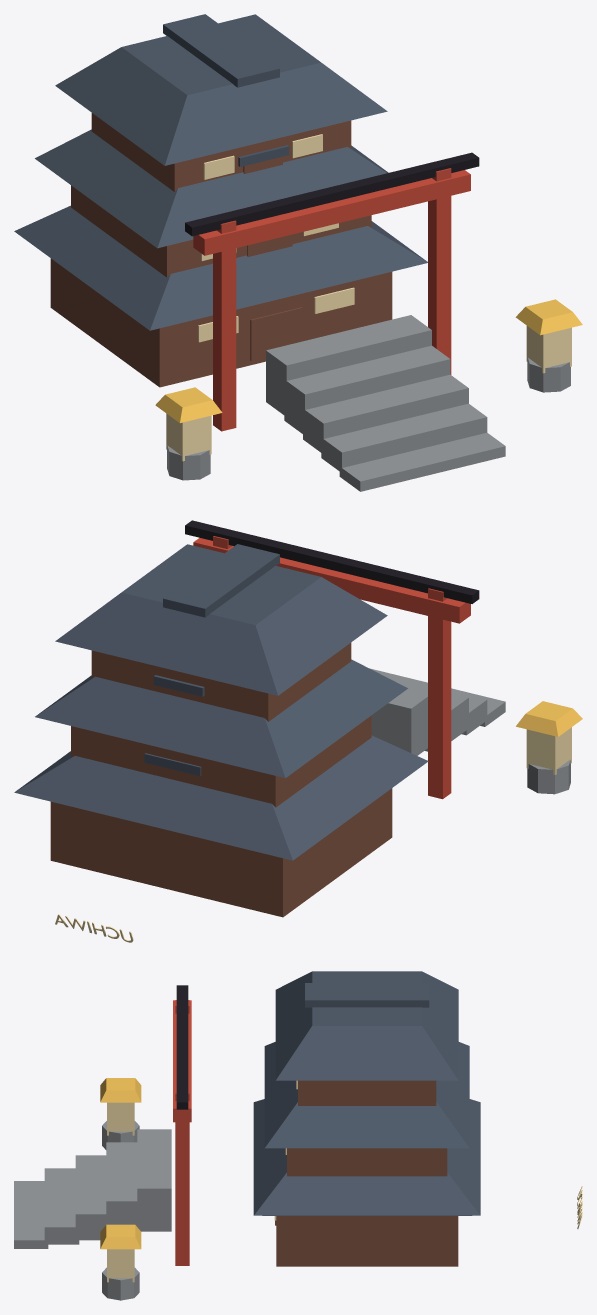
File: 01_uchiwa.glb
3 views of the same model, one above another, from view 1: azimuth 30°, elevation 25°; view 2: azimuth 150°, elevation 25°; view 3: azimuth 270°, elevation 25° (orthographic). The views are drawn at different scales.
Parts seen in each view (by area): view 1: tier_2_roof, tier_0_roof, tier_1_roof, tier_0_body, stairs_4, torii_beam, stairs_3, stairs_2, stairs_1, torii_lintel, tier_2_body, stairs_0 (+12 smaller); view 2: tier_2_roof, tier_0_roof, tier_0_body, tier_1_roof, tier_1_body, tier_2_body, torii_post_L, torii_lintel, tier_2_ridge, torii_beam, stairs_4, lantern_body (+7 smaller); view 3: tier_2_roof, tier_0_roof, tier_1_roof, tier_0_body, tier_1_body, tier_2_body, stairs_4, tier_2_ridge, stairs_3, stairs_2, stairs_1, torii_post_R (+9 smaller).
Part boxes in pixels (left/top/right/bottom): tier_2_roof: left=55, top=14, right=387, bottom=165; tier_0_roof: left=14, top=205, right=427, bottom=330; tier_1_roof: left=35, top=129, right=388, bottom=248; tier_0_body: left=50, top=258, right=392, bottom=387; stairs_4: left=266, top=315, right=431, bottom=414; torii_beam: left=193, top=170, right=470, bottom=255; stairs_3: left=284, top=345, right=450, bottom=435; stairs_2: left=303, top=374, right=468, bottom=452; stairs_1: left=321, top=403, right=487, bottom=472; torii_lintel: left=185, top=152, right=479, bottom=236; tier_2_body: left=91, top=113, right=351, bottom=191; stairs_0: left=339, top=432, right=505, bottom=491; tier_2_roof: left=55, top=544, right=387, bottom=695; tier_0_roof: left=14, top=735, right=428, bottom=860; tier_0_body: left=50, top=788, right=392, bottom=917; tier_1_roof: left=35, top=659, right=407, bottom=778; tier_1_body: left=71, top=715, right=371, bottom=807; tier_2_body: left=91, top=642, right=351, bottom=721; torii_post_L: left=428, top=588, right=451, bottom=799; torii_lintel: left=185, top=520, right=479, bottom=603; tier_2_ridge: left=163, top=544, right=279, bottom=617; torii_beam: left=193, top=537, right=470, bottom=623; stairs_4: left=371, top=687, right=427, bottom=755; lantern_body: left=526, top=727, right=571, bottom=774; tier_2_roof: left=275, top=971, right=458, bottom=1080; tier_0_roof: left=253, top=1099, right=480, bottom=1215; tier_1_roof: left=264, top=1042, right=469, bottom=1148; tier_0_body: left=276, top=1216, right=458, bottom=1266; tier_1_body: left=287, top=1148, right=447, bottom=1176; tier_2_body: left=298, top=1080, right=436, bottom=1105; stairs_4: left=137, top=1129, right=171, bottom=1231; tier_2_ridge: left=305, top=983, right=429, bottom=1007; stairs_3: left=106, top=1142, right=140, bottom=1230; stairs_2: left=75, top=1155, right=106, bottom=1240; stairs_1: left=44, top=1168, right=79, bottom=1244; torii_post_R: left=175, top=1087, right=189, bottom=1265.
Bounding box in the file's own units: 8.67 × 5.61 × 12.7.
